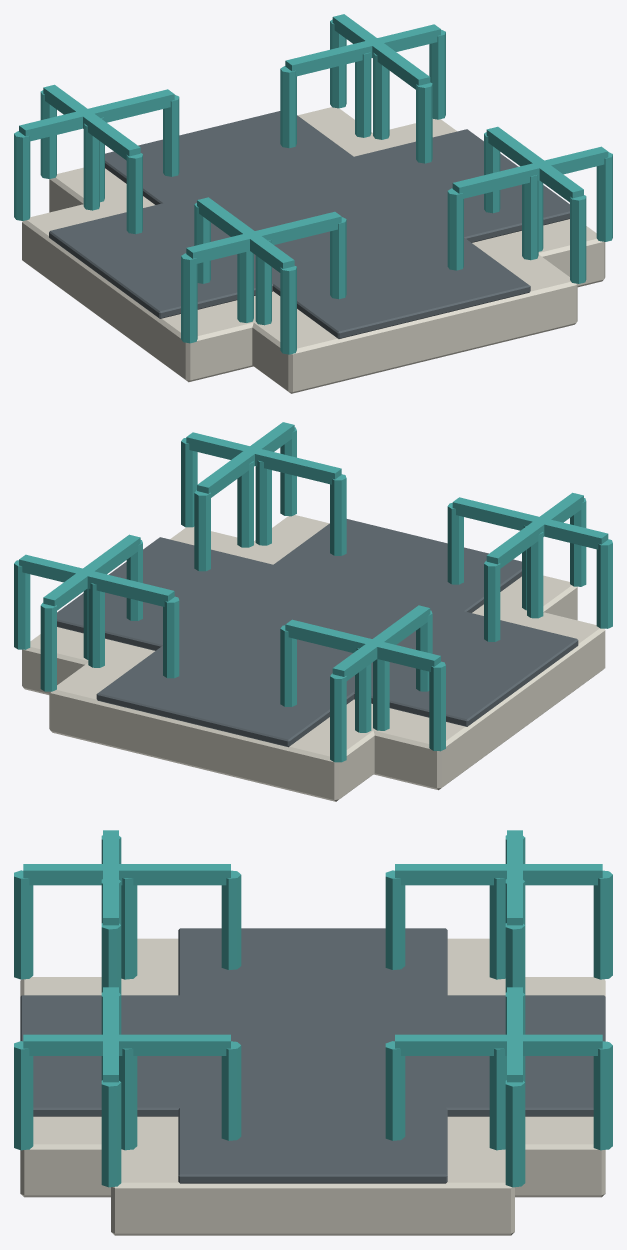
Rendered from BRG_LOCAL_DECK_1x1_CROSS.glb.
The picture shows the model from 3 angles, top to bottom: view 1: azimuth 30°, elevation 25°; view 2: azimuth 150°, elevation 25°; view 3: azimuth 270°, elevation 25°; orthographic projection. The views are drawn at different scales.
Visible parts, largest first — view 1: BRG_LOCAL_DECK_1x1_CROSS_Visual; view 2: BRG_LOCAL_DECK_1x1_CROSS_Visual; view 3: BRG_LOCAL_DECK_1x1_CROSS_Visual.
Boxes of the visible parts, x1=… form: BRG_LOCAL_DECK_1x1_CROSS_Visual: x1=14, y1=14, x2=612, y2=393; BRG_LOCAL_DECK_1x1_CROSS_Visual: x1=14, y1=422, x2=612, y2=801; BRG_LOCAL_DECK_1x1_CROSS_Visual: x1=14, y1=830, x2=612, y2=1235.
Size of what is drawn, in the model's own units: 2.05 by 0.6075 by 2.05.
